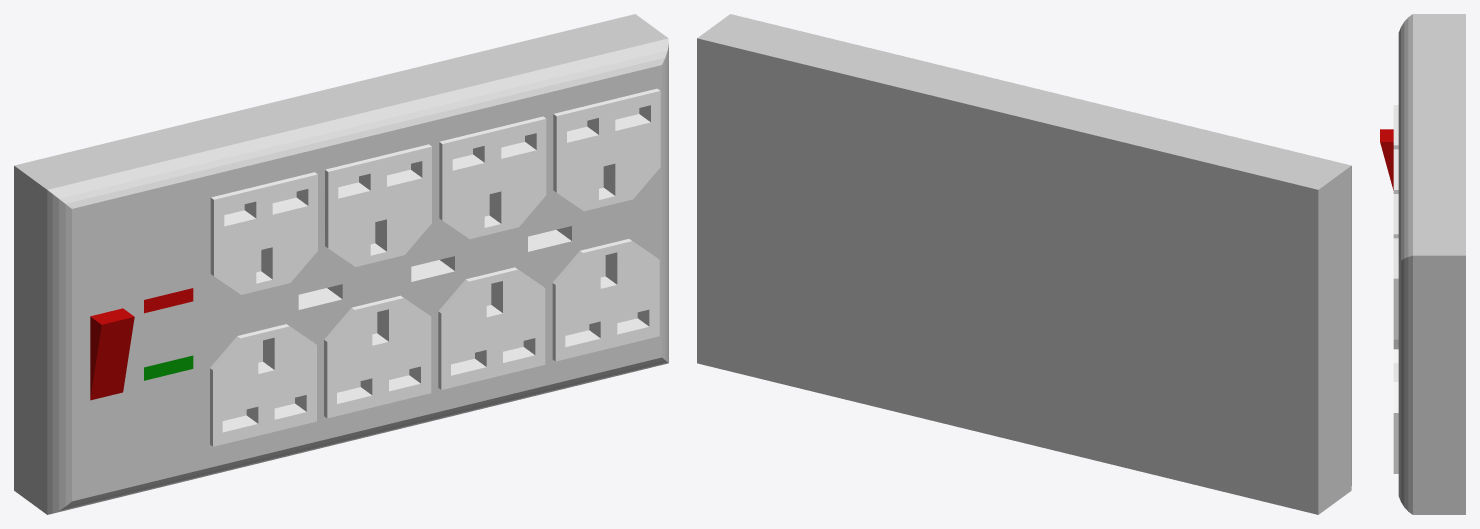
The picture shows the model from 3 angles, left to right: view 1: azimuth 30°, elevation 25°; view 2: azimuth 150°, elevation 25°; view 3: azimuth 270°, elevation 25°; orthographic projection. The views are drawn at different scales.
Parts seen in each view (by area): view 1: surge plug; view 2: surge plug; view 3: surge plug.
Boxes of the visible parts, x1,y1,x2,y2 form: surge plug: [14, 14, 668, 514]; surge plug: [697, 14, 1351, 514]; surge plug: [1380, 14, 1465, 514].
Bounding box in the file's own units: 13.39 × 6.69 × 2.01.
